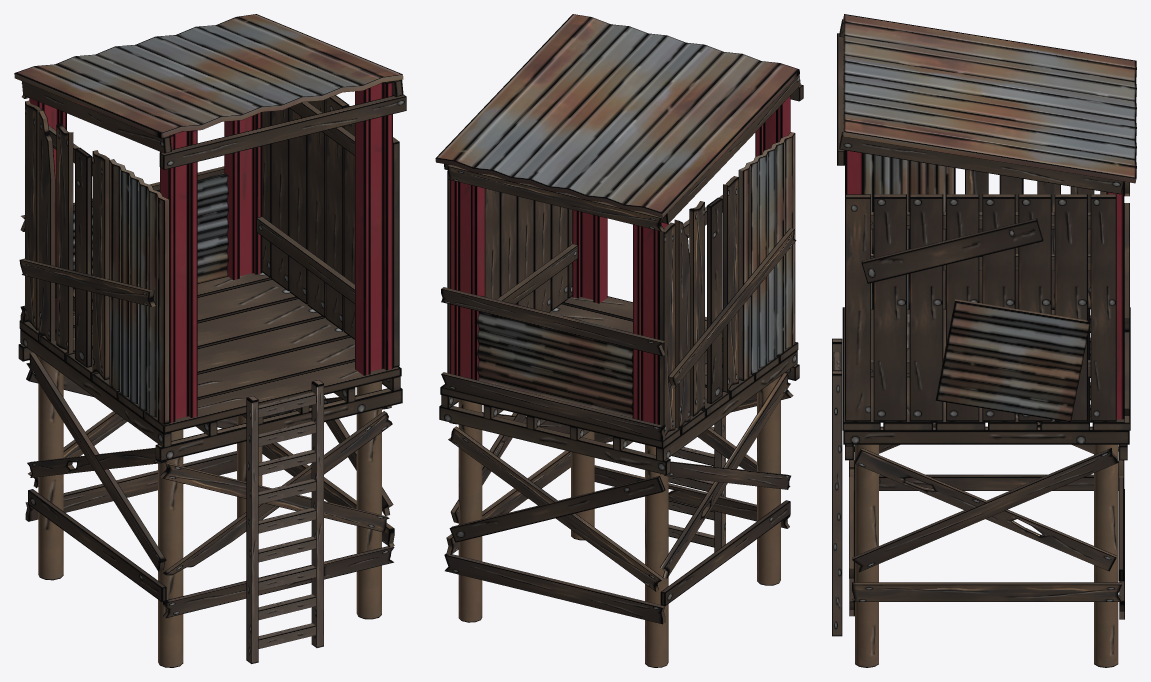
File: guard_tower.fbx
The picture shows the model from 3 angles, left to right: view 1: azimuth 30°, elevation 25°; view 2: azimuth 150°, elevation 25°; view 3: azimuth 270°, elevation 25°; orthographic projection. The views are drawn at different scales.
Visible parts, largest first — view 1: guard_tower; view 2: guard_tower; view 3: guard_tower.
Part boxes in pixels (x1,y1,x2,y2): guard_tower: (14, 14, 406, 667); guard_tower: (435, 14, 803, 667); guard_tower: (832, 14, 1136, 667).
Size of the model in its own units: 314 by 665 by 335.
Materials: 1 (1 with a texture image).
